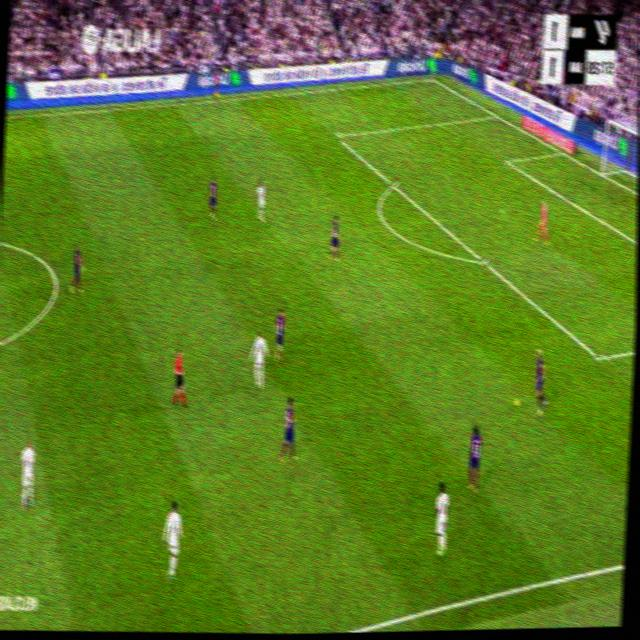bigarea_bottom_inner: (593, 344, 605, 371)
bigarea_top_inner: (332, 128, 340, 143)
bigarea_top_outter: (491, 107, 500, 120)
bottom_arc_area_intersection: (475, 251, 488, 269)
corner: (427, 73, 436, 83)
smallarea_top_inner: (504, 155, 511, 165)
top_arc_area_intersection: (388, 176, 399, 192)
